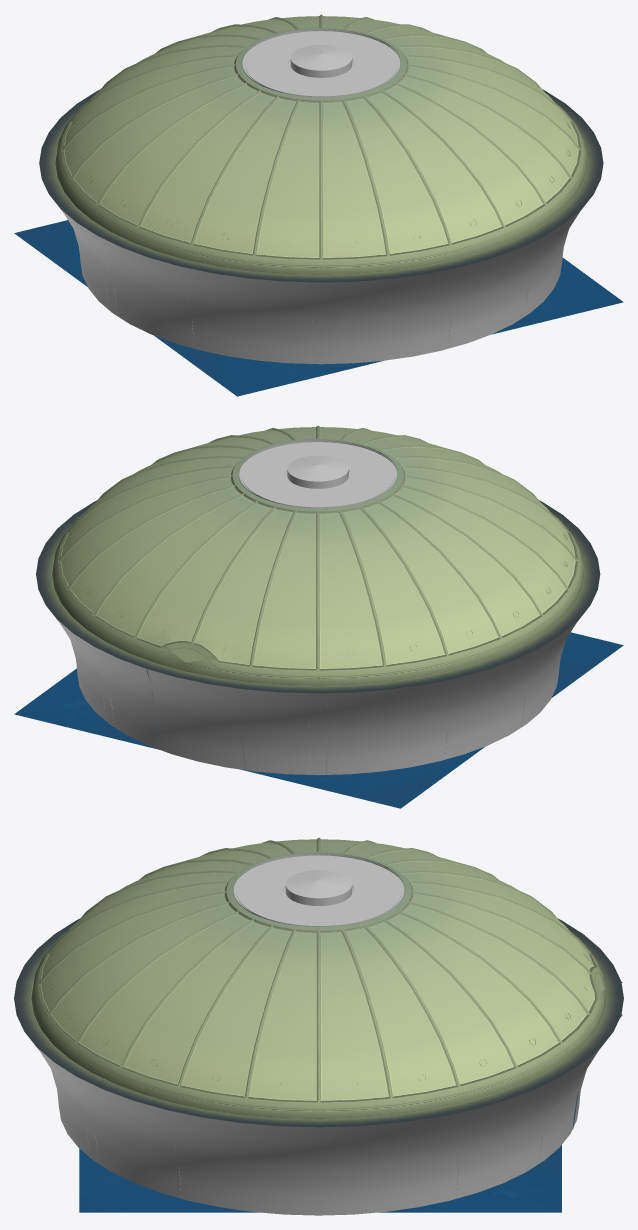
The model's file is babidiyuzhouchuan_zhuti.FBX.
3 renders of one model, top to bottom at view 1: azimuth 30°, elevation 25°; view 2: azimuth 150°, elevation 25°; view 3: azimuth 270°, elevation 25°, orthographic. The views are drawn at different scales.
Visible parts, largest first — view 1: babidiyuzhouchuan_zhuti; view 2: babidiyuzhouchuan_zhuti; view 3: babidiyuzhouchuan_zhuti.
Boxes of the visible parts, x1,y1,x2,y2 form: babidiyuzhouchuan_zhuti: (14,14,623,396); babidiyuzhouchuan_zhuti: (14,425,623,808); babidiyuzhouchuan_zhuti: (14,837,623,1215).
Bounding box in the file's own units: 3768 × 1578 × 3768.
